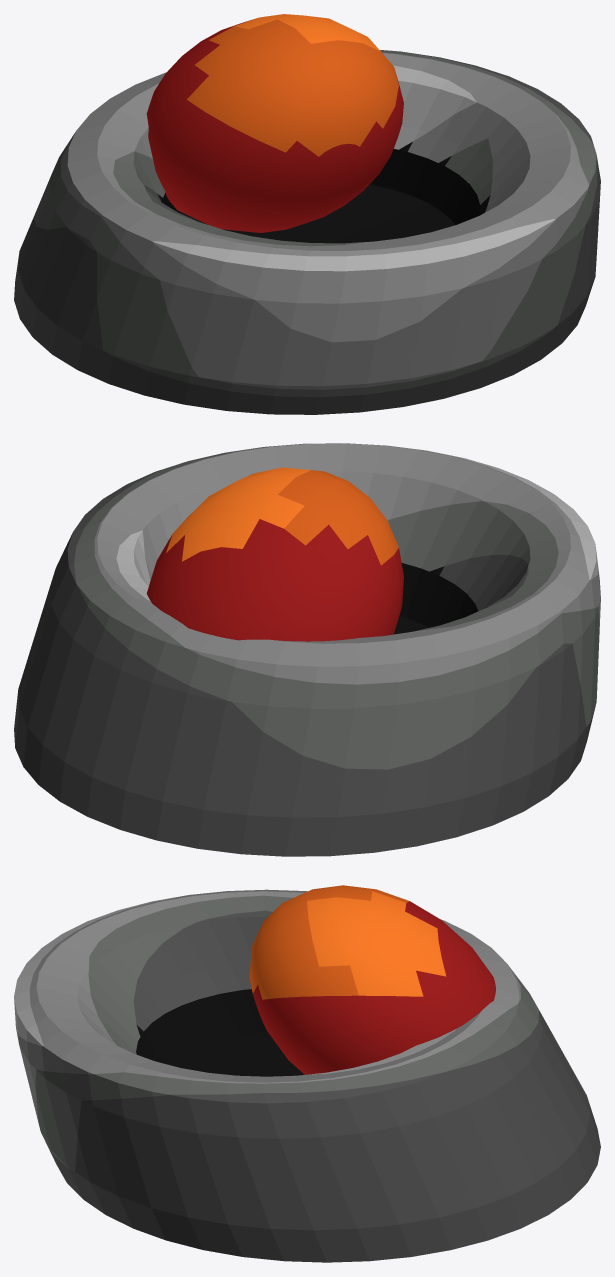
The model's file is fruit_hex_eye.glb.
3 renders of one model, top to bottom at view 1: azimuth 30°, elevation 25°; view 2: azimuth 150°, elevation 25°; view 3: azimuth 270°, elevation 25°, orthographic. The views are drawn at different scales.
Visible parts, largest first — view 1: fruit_hex_eye; view 2: fruit_hex_eye; view 3: fruit_hex_eye.
Part boxes in pixels (x1,y1,x2,y2): fruit_hex_eye: (14, 14, 600, 414); fruit_hex_eye: (14, 443, 600, 856); fruit_hex_eye: (14, 885, 600, 1262).
Bounding box in the file's own units: 10.5 × 5.23 × 11.15.
